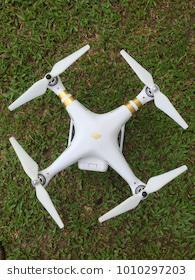drone: (0, 35, 195, 238)
